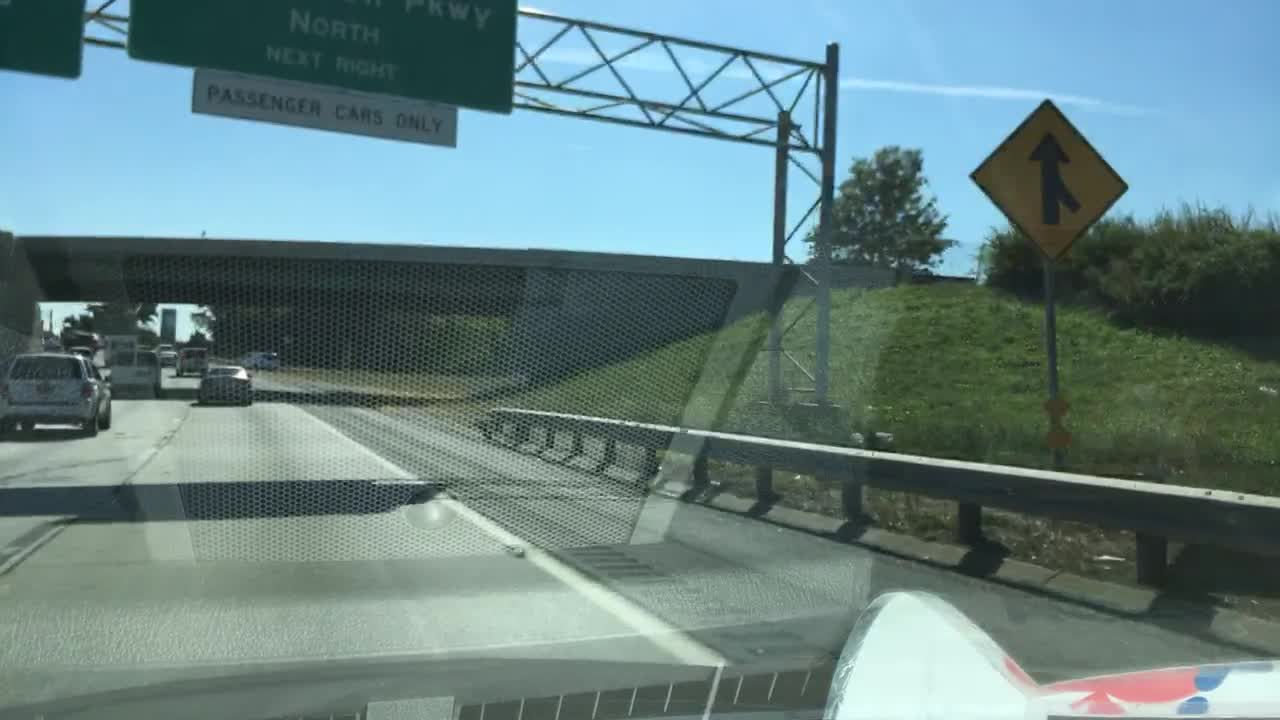car: (0, 352, 111, 436), (105, 352, 167, 399), (198, 364, 254, 408), (173, 346, 214, 378), (102, 331, 138, 367), (70, 346, 101, 367), (155, 340, 179, 367), (254, 352, 283, 371), (243, 349, 258, 365)
traffic sign: (125, 0, 515, 146), (127, 1, 517, 116), (966, 99, 1127, 264), (191, 68, 458, 146), (1, 0, 87, 80)
